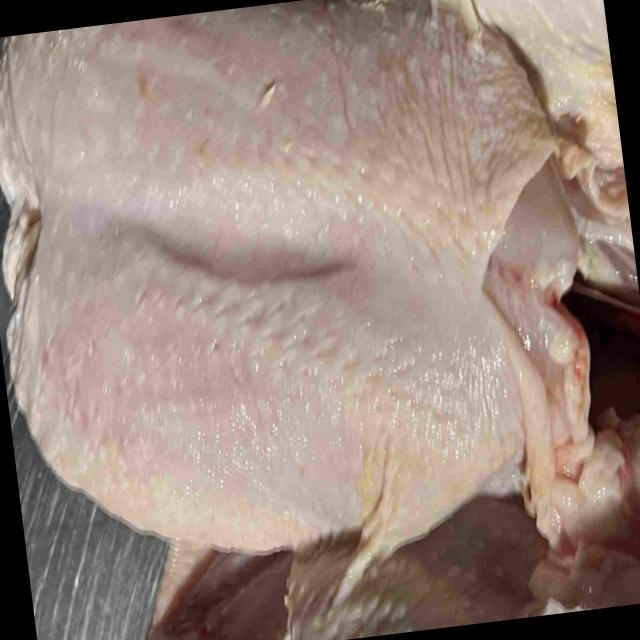breast: (0, 0, 575, 533)
leg: (288, 501, 541, 640), (403, 0, 612, 88)
wing: (154, 535, 290, 640)
